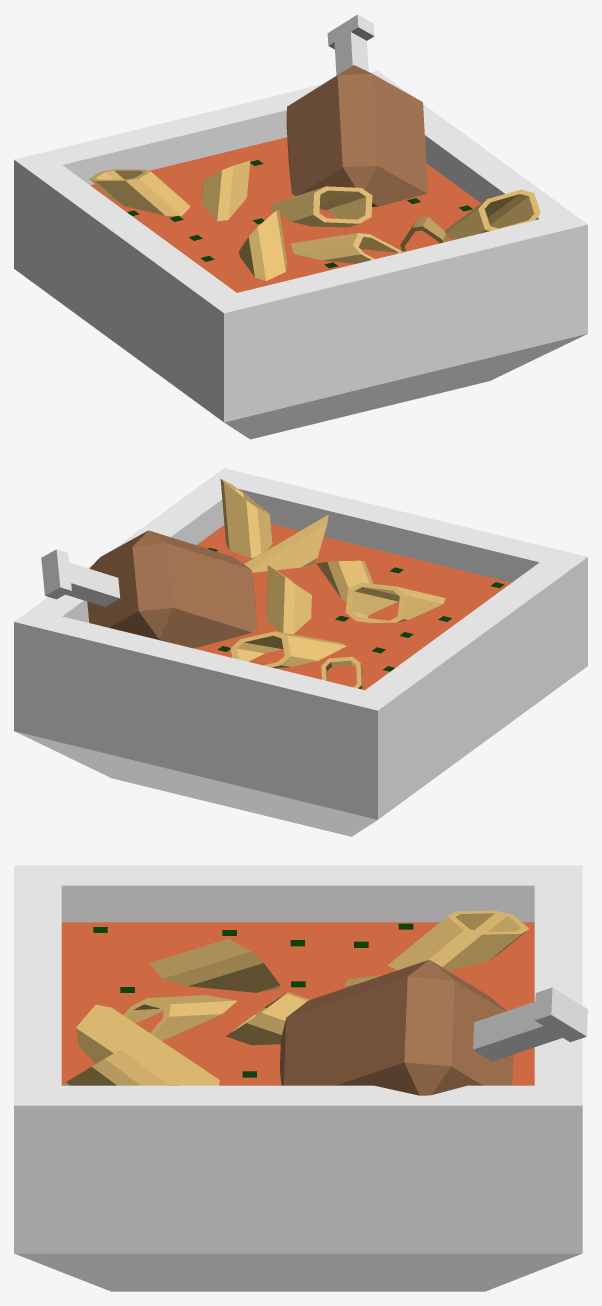
Rendered from FNG_ChickenSOup.fbx.
3 views of the same model, one above another, from view 1: azimuth 30°, elevation 25°; view 2: azimuth 150°, elevation 25°; view 3: azimuth 270°, elevation 25° (orthographic). The views are drawn at different scales.
Visible parts, largest first — view 1: Cube, Cube.001, Cube.003, Cube.002, Cube.005, Cube.004, Cube.006, Cube.007, Cube.008; view 2: Cube, Cube.001, Cube.005, Cube.004, Cube.007, Cube.003, Cube.008, Cube.006, Cube.002; view 3: Cube, Cube.001, Cube.002, Cube.008, Cube.004, Cube.006, Cube.003, Cube.005.
Boxes of the visible parts, left/top/right/bottom form: Cube: left=14, top=71, right=587, bottom=439; Cube.001: left=286, top=14, right=427, bottom=206; Cube.003: left=269, top=186, right=372, bottom=227; Cube.002: left=89, top=169, right=190, bottom=215; Cube.005: left=445, top=189, right=540, bottom=239; Cube.004: left=239, top=210, right=287, bottom=280; Cube.006: left=291, top=233, right=401, bottom=263; Cube.007: left=201, top=160, right=250, bottom=221; Cube.008: left=400, top=216, right=446, bottom=251; Cube: left=14, top=468, right=587, bottom=836; Cube.001: left=41, top=530, right=257, bottom=648; Cube.005: left=220, top=479, right=272, bottom=557; Cube.004: left=345, top=582, right=445, bottom=622; Cube.007: left=230, top=631, right=346, bottom=668; Cube.003: left=266, top=565, right=311, bottom=633; Cube.008: left=244, top=514, right=328, bottom=572; Cube.006: left=316, top=560, right=373, bottom=601; Cube.002: left=321, top=656, right=362, bottom=689; Cube: left=14, top=865, right=582, bottom=1291; Cube.001: left=279, top=959, right=587, bottom=1095; Cube.002: left=387, top=910, right=529, bottom=970; Cube.008: left=76, top=1004, right=219, bottom=1085; Cube.004: left=150, top=938, right=280, bottom=992; Cube.006: left=123, top=995, right=237, bottom=1040; Cube.003: left=226, top=992, right=309, bottom=1045; Cube.005: left=63, top=1049, right=168, bottom=1085.
Bounding box in the file's own units: 152 × 95.59 × 153.
